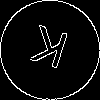K: (25, 25, 71, 78)
